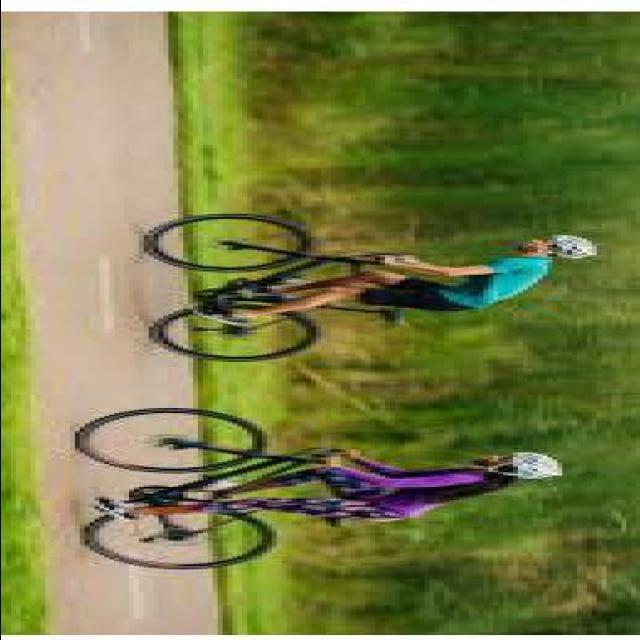bicycle: (70, 407, 346, 572), (143, 216, 414, 362)
